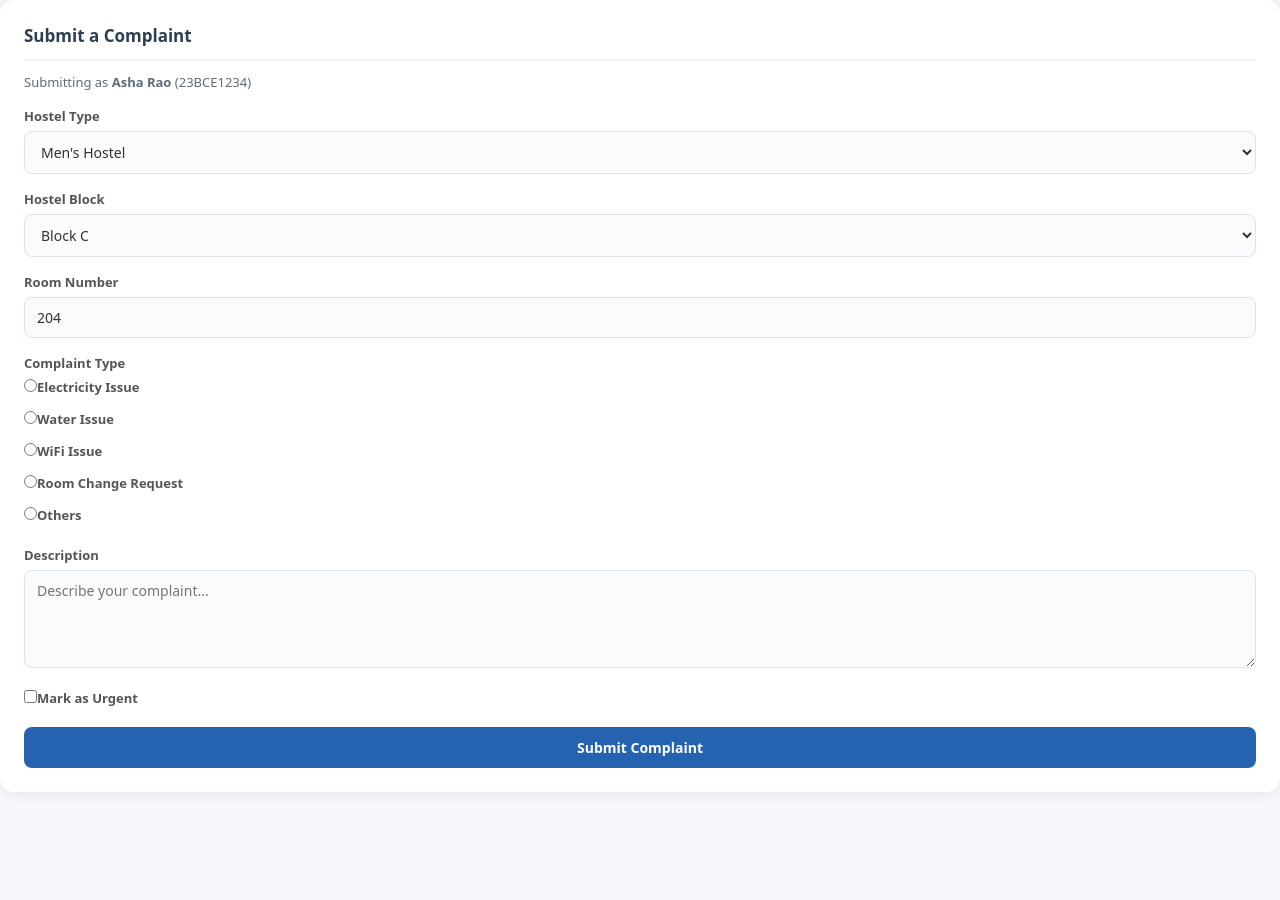
Test: ComplaintForm › submits the complaint, then clears type/description/urgent and shows success
The image size is (1280, 900).
Click the radio button labelled "WiFi Issue" at [30, 450], box x1=24 y1=443 x2=37 y2=456
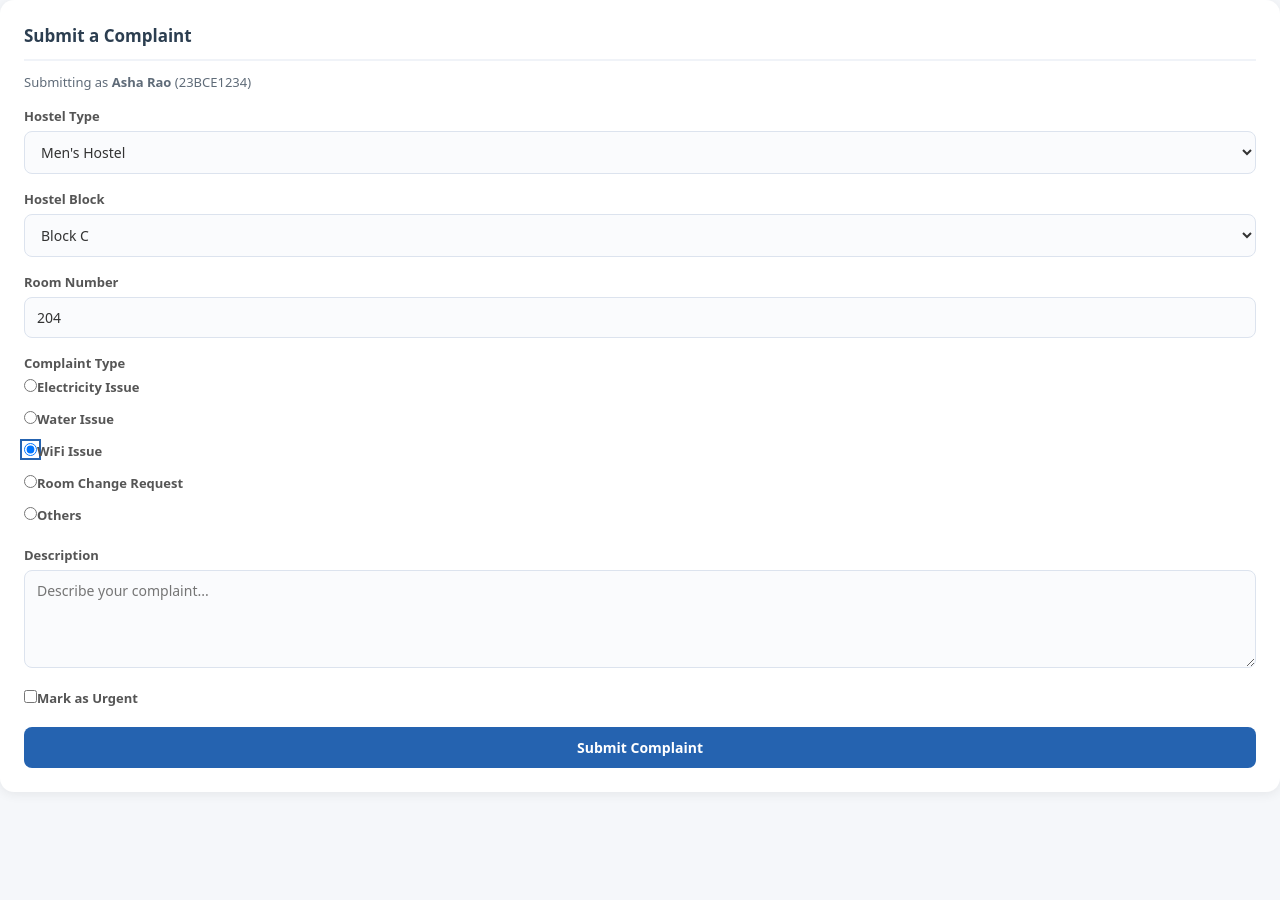
Type "No signal in room" into the text box labelled "Description" at [640, 619], box x1=24 y1=570 x2=1256 y2=668
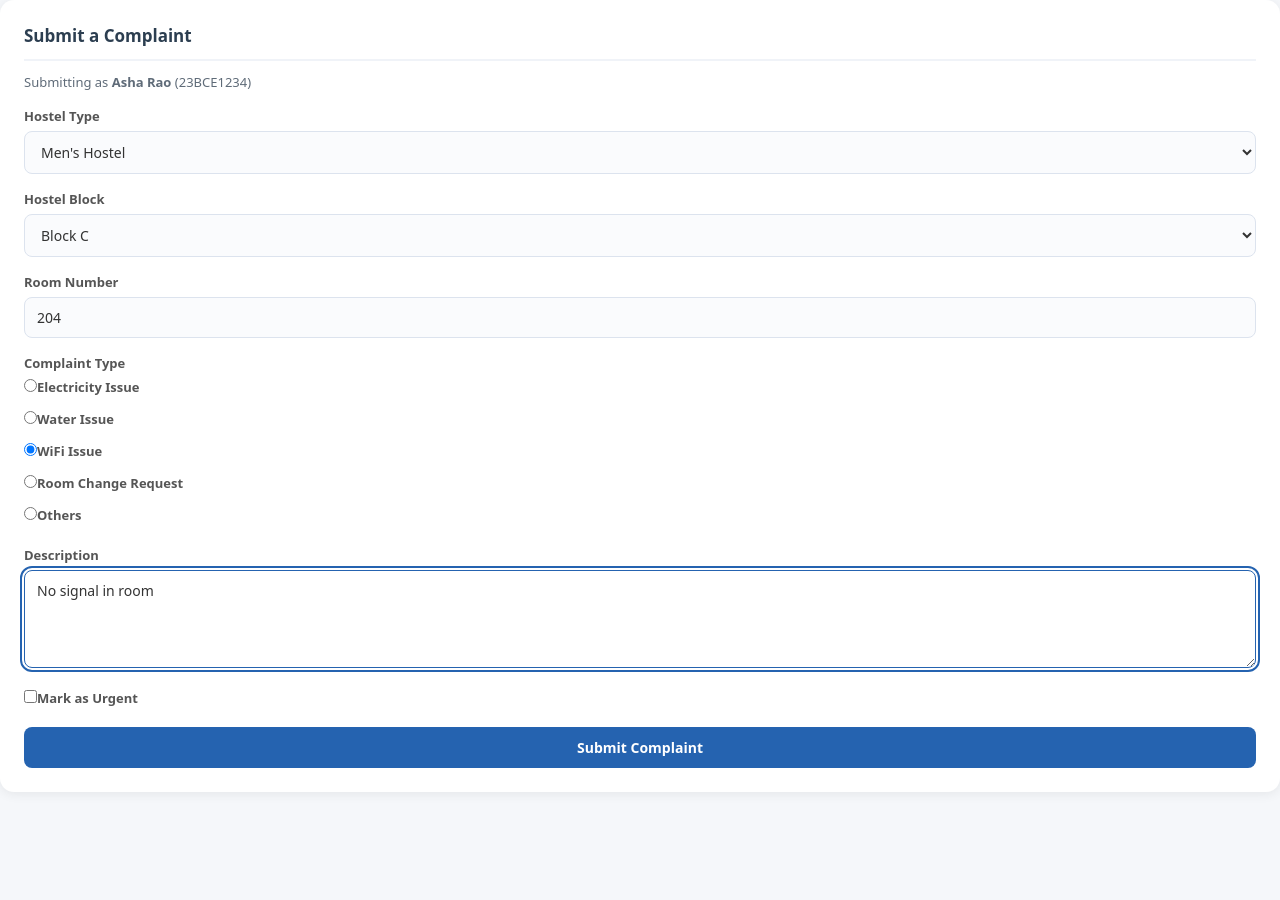
Click the checkbox labelled "Mark as Urgent" at [30, 696], box x1=24 y1=690 x2=37 y2=703
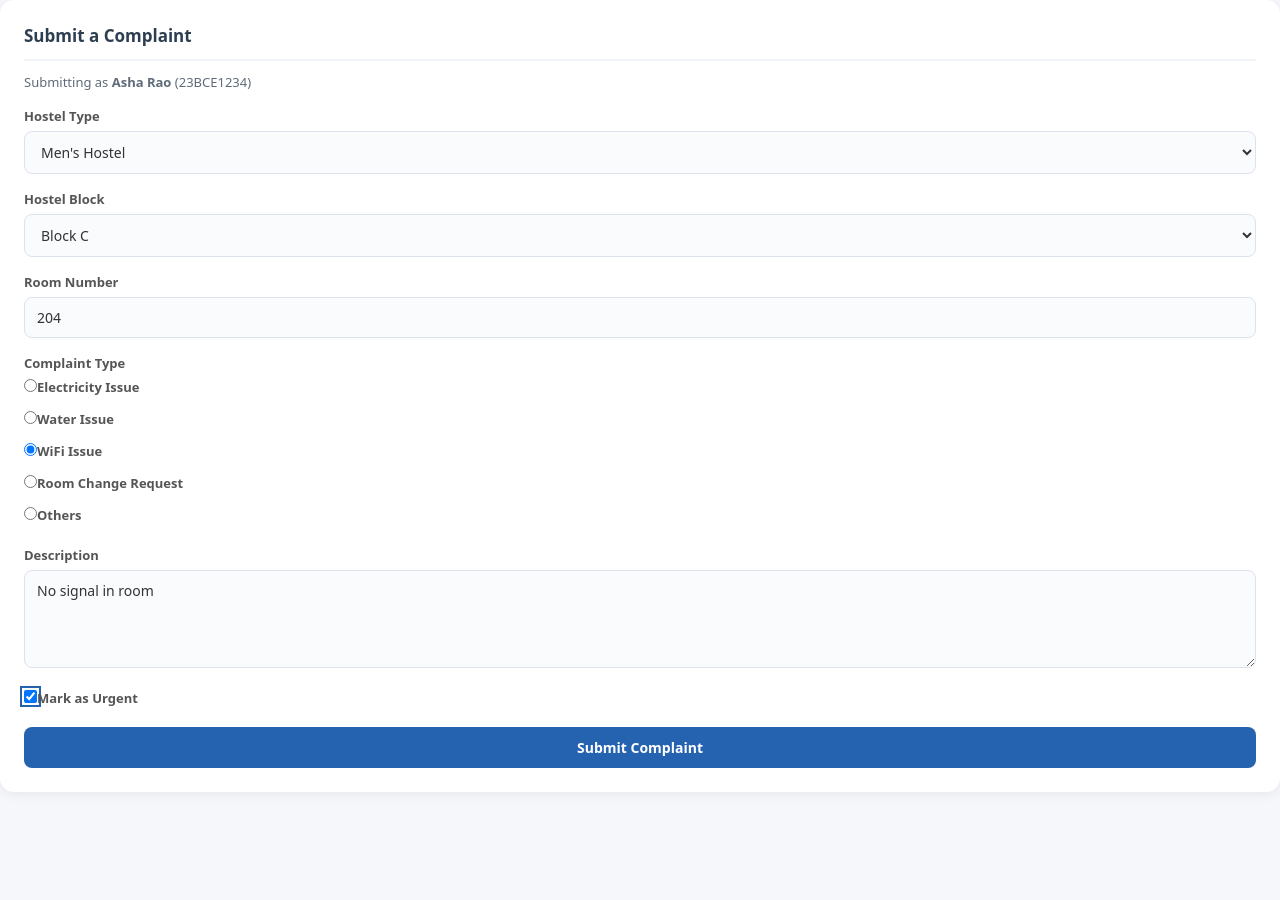
Click the button "Submit Complaint" at [640, 748], box x1=24 y1=727 x2=1256 y2=768
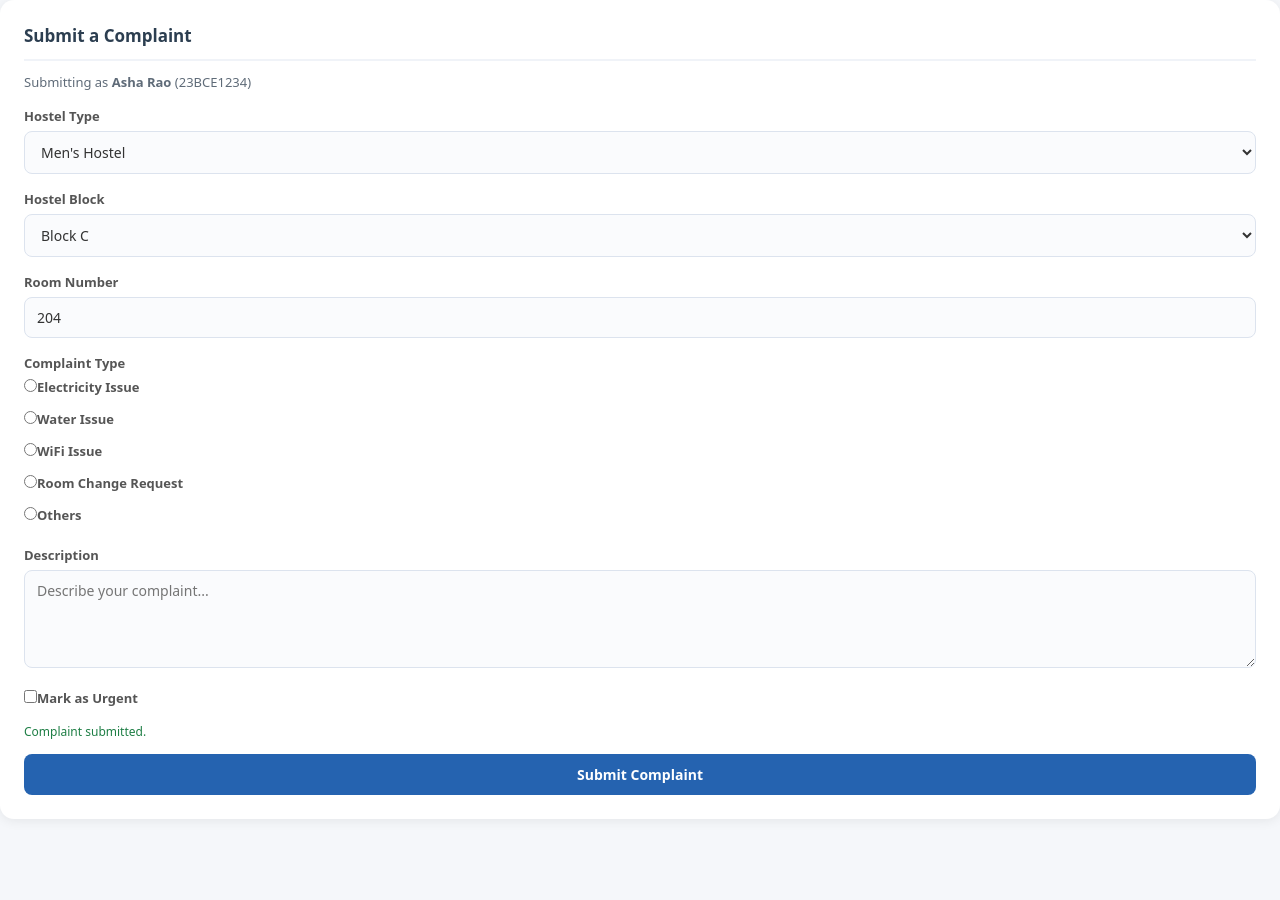
Result: the radio button labelled "WiFi Issue" is not checked at x1=24 y1=443 x2=37 y2=456
Result: the message reads "Complaint submitted." at x1=24 y1=723 x2=146 y2=740
Result: the text box labelled "Description" is empty at x1=24 y1=570 x2=1256 y2=668
